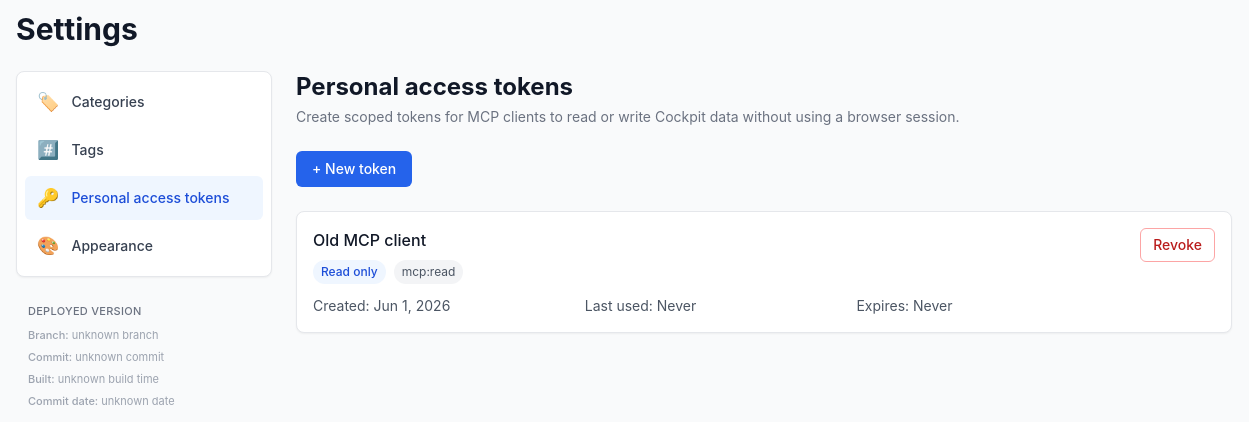
Test: Personal access tokens settings › revokes a token after confirmation and refreshes the list
Step 1. Click the button "Revoke" → (1178, 245), box [1140,228,1215,262]
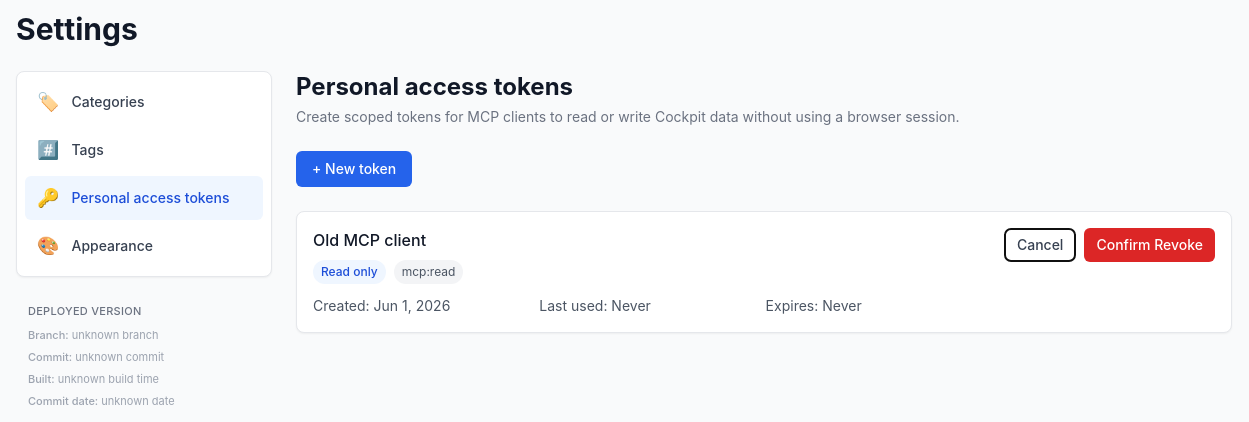
Step 2. Click the button "Confirm Revoke" → (1150, 245), box [1084,228,1215,262]
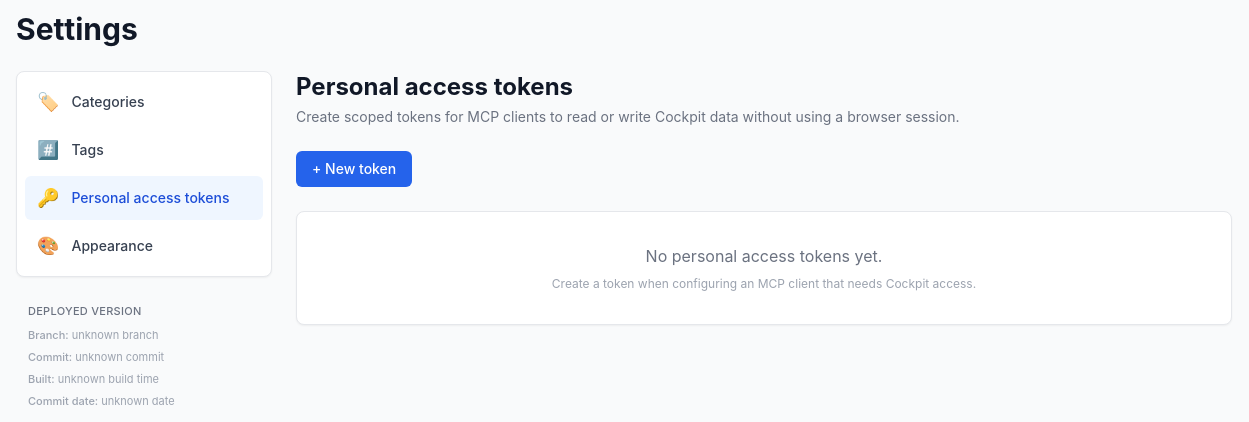
Now the heading "Old MCP client" is gone
Now the text "No personal access tokens yet." is shown, box [646,246,882,266]
